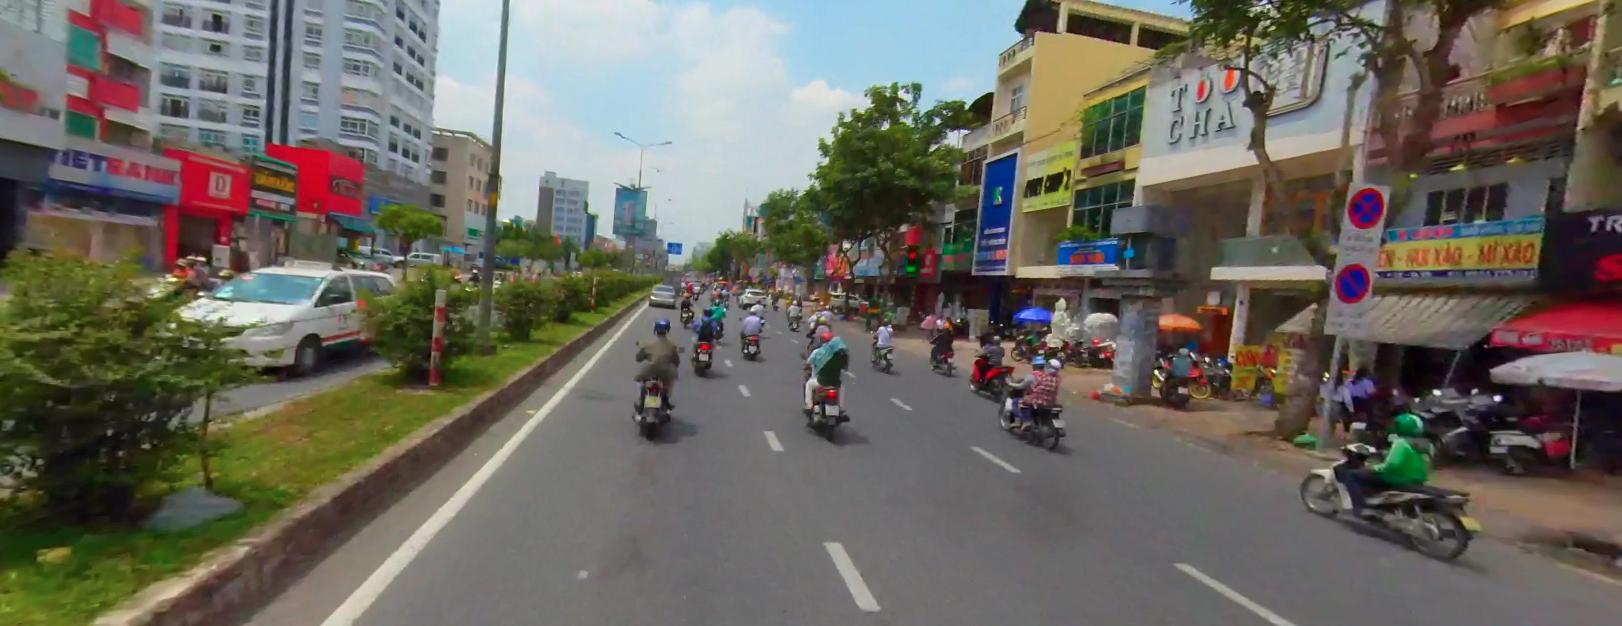Cam dung va do: (1348, 181, 1381, 229), (1338, 261, 1369, 303)
